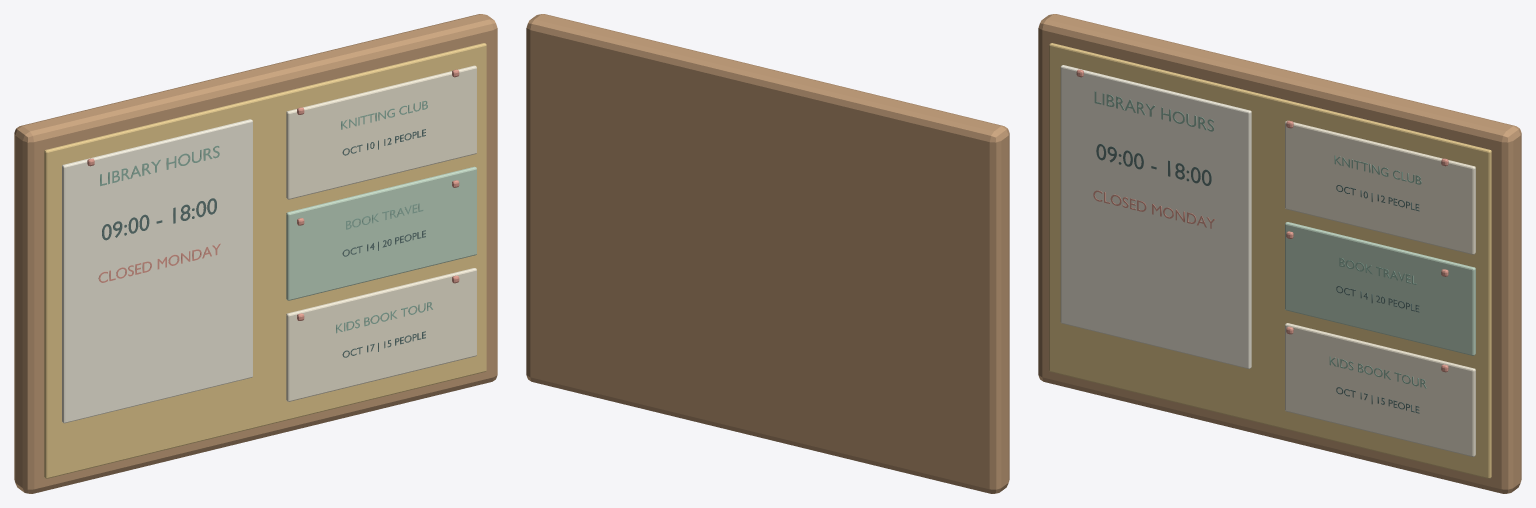
File: board.glb
The picture shows the model from 3 angles, left to right: view 1: azimuth 30°, elevation 25°; view 2: azimuth 150°, elevation 25°; view 3: azimuth 330°, elevation 25°; orthographic projection.
Parts seen in each view (by area): view 1: board; view 2: board; view 3: board.
Part boxes in pixels (x1,y1,x2,y2): board: [14, 14, 497, 493]; board: [526, 14, 1009, 493]; board: [1038, 14, 1521, 493].
Bounding box in the file's own units: 2.6 × 1.9 × 0.2525.
